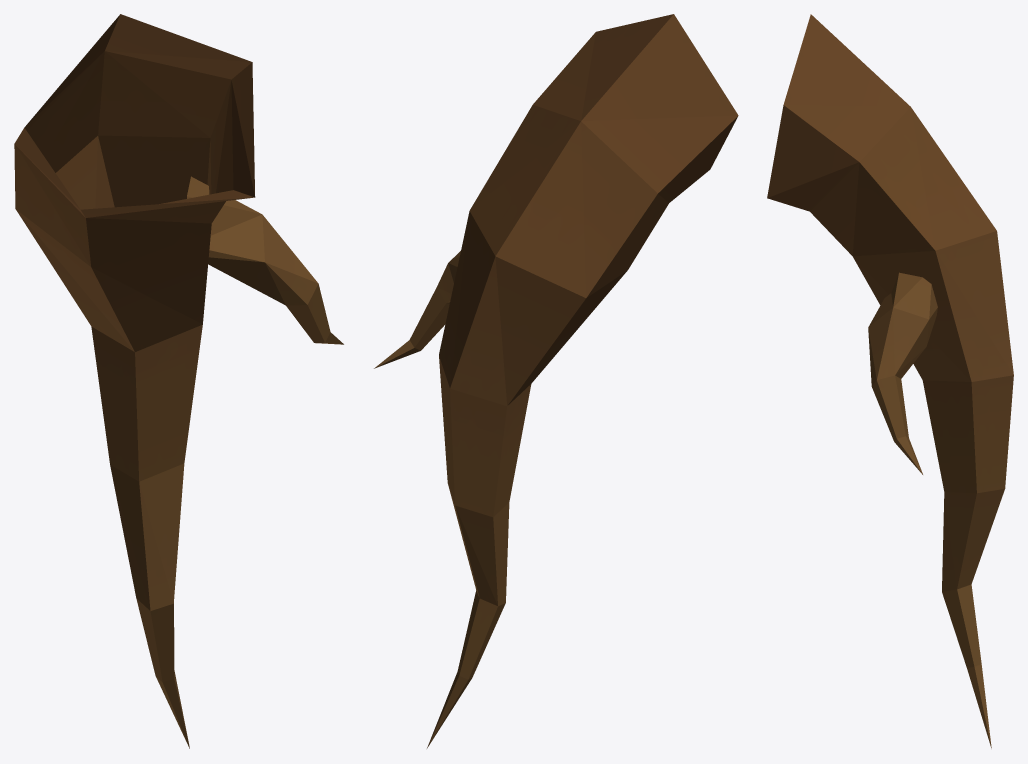
The model's file is tree_002.FBX.
3 renders of one model, left to right at view 1: azimuth 30°, elevation 25°; view 2: azimuth 150°, elevation 25°; view 3: azimuth 270°, elevation 25°, orthographic. The views are drawn at different scales.
Visible parts, largest first — view 1: tree_002; view 2: tree_002; view 3: tree_002.
Boxes of the visible parts, x1,y1,x2,y2 form: tree_002: [14, 14, 343, 748]; tree_002: [374, 14, 738, 748]; tree_002: [767, 14, 1013, 748].
Size of the model in its own units: 1.7 by 3.67 by 1.23.
Materials: 1 (1 with a texture image).
